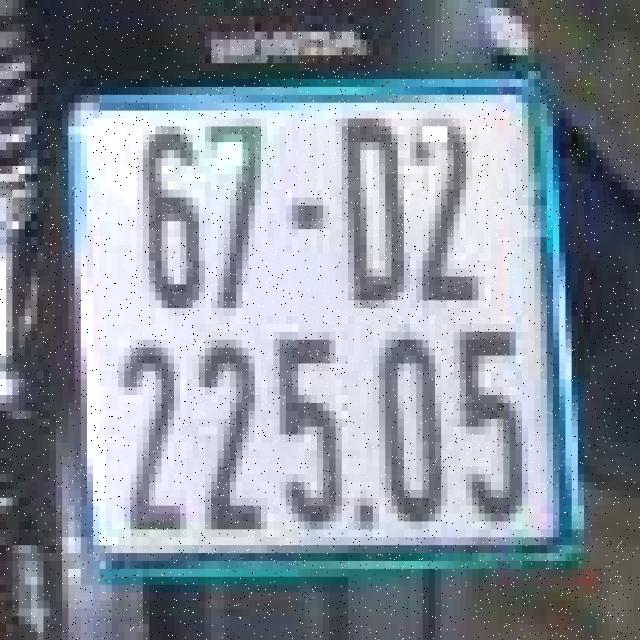0: (367, 324, 448, 529)
2: (106, 336, 192, 541), (410, 103, 491, 316), (193, 332, 267, 553)
5: (270, 324, 351, 545), (457, 328, 538, 525)
6: (131, 119, 205, 316)
7: (202, 111, 276, 324)
D: (332, 107, 407, 312)
